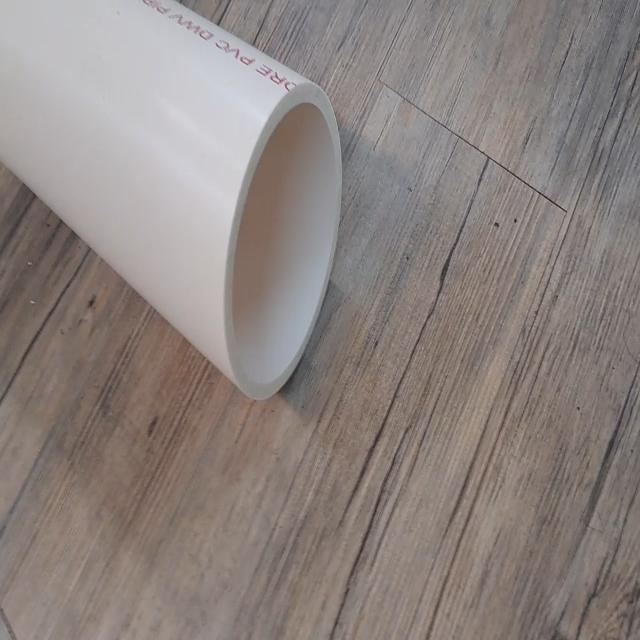CORAL: (0, 0, 352, 407)
